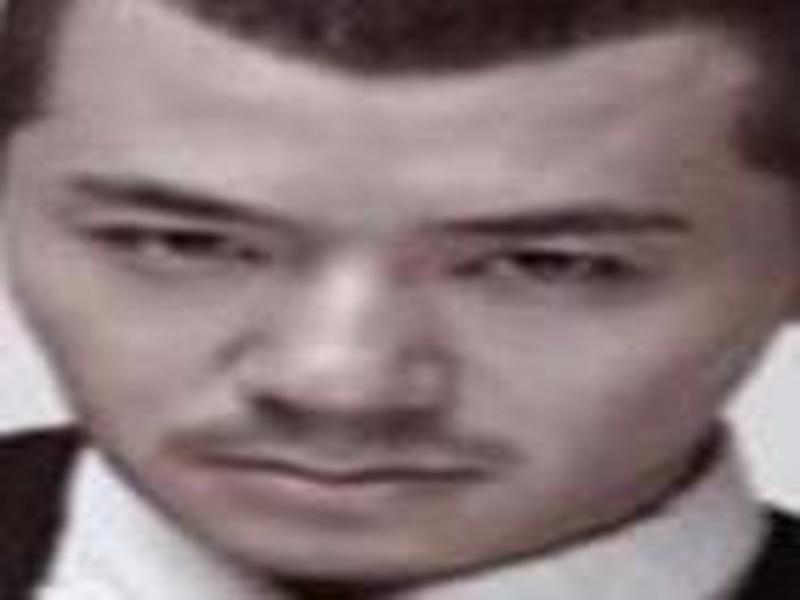without_mask: (12, 16, 778, 587)
